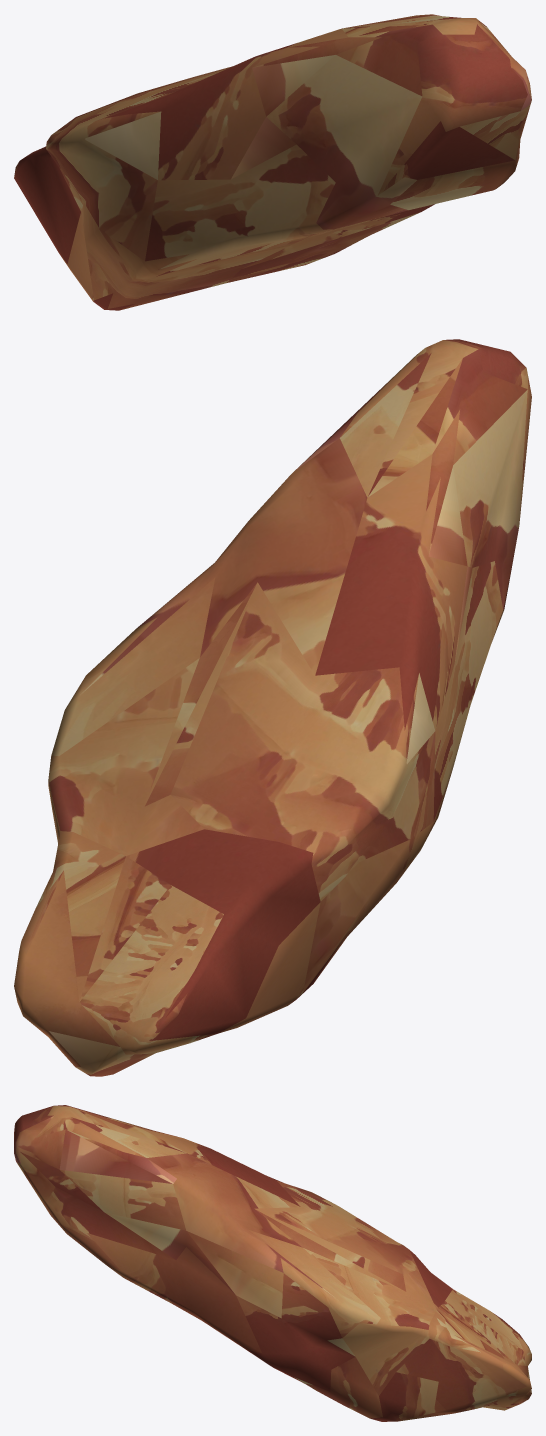
Rendered from Rock_3.fbx.
3 views of the same model, one above another, from view 1: azimuth 30°, elevation 25°; view 2: azimuth 150°, elevation 25°; view 3: azimuth 270°, elevation 25° (orthographic). The views are drawn at different scales.
Parts seen in each view (by area): view 1: tripo_node_15ab6d13; view 2: tripo_node_15ab6d13; view 3: tripo_node_15ab6d13.
Part boxes in pixels (x1,y1,x2,y2): tripo_node_15ab6d13: [14, 14, 531, 310]; tripo_node_15ab6d13: [14, 339, 531, 1076]; tripo_node_15ab6d13: [14, 1105, 531, 1421].
Bounding box in the file's own units: 0.459 × 0.6387 × 0.998.
